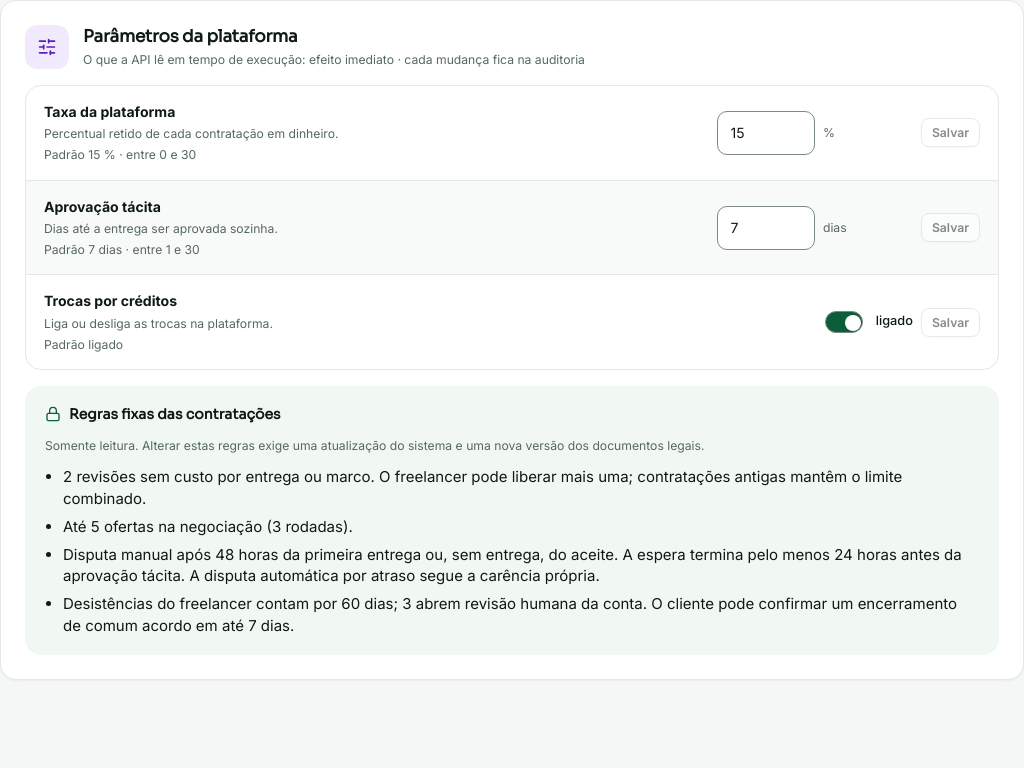
it: SettingsSection › Salvar só habilita com valor diferente do atual, e manda a chave com o número
Clear the number field named "Taxa da plataforma": (766, 133) 717,111 -> 815,155
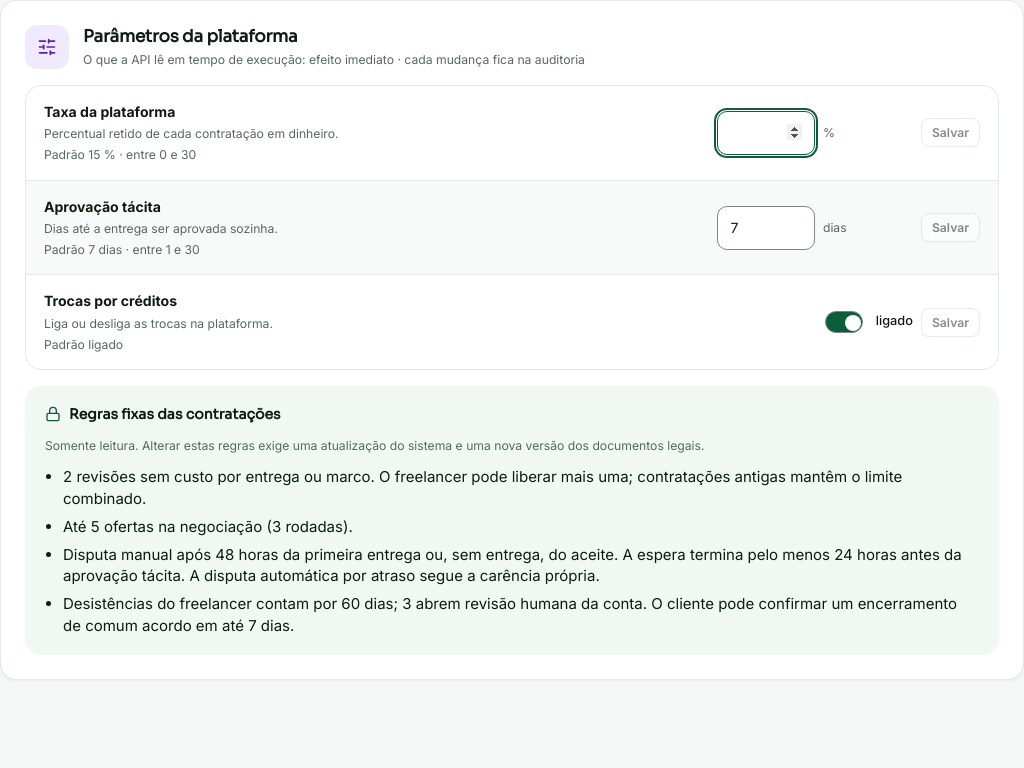
In the number field named "Taxa da plataforma": (766, 133) 717,111 -> 815,155, type "15"
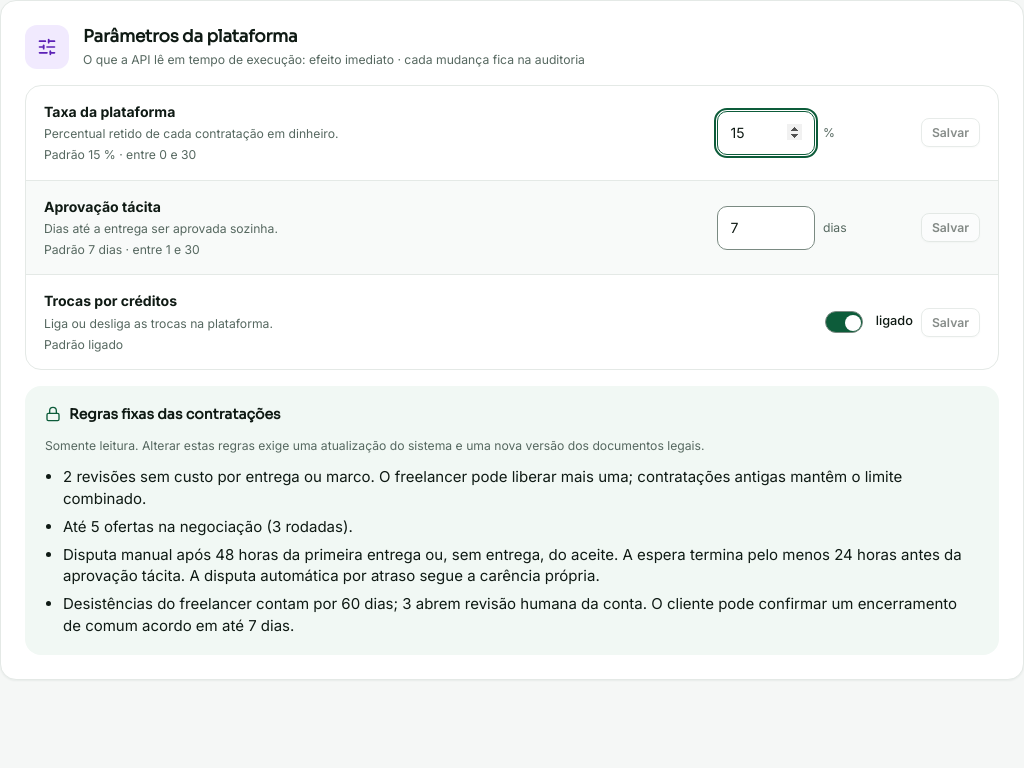
Replace the text in the number field named "Taxa da plataforma" with "12.5": (766, 133) 717,111 -> 815,155
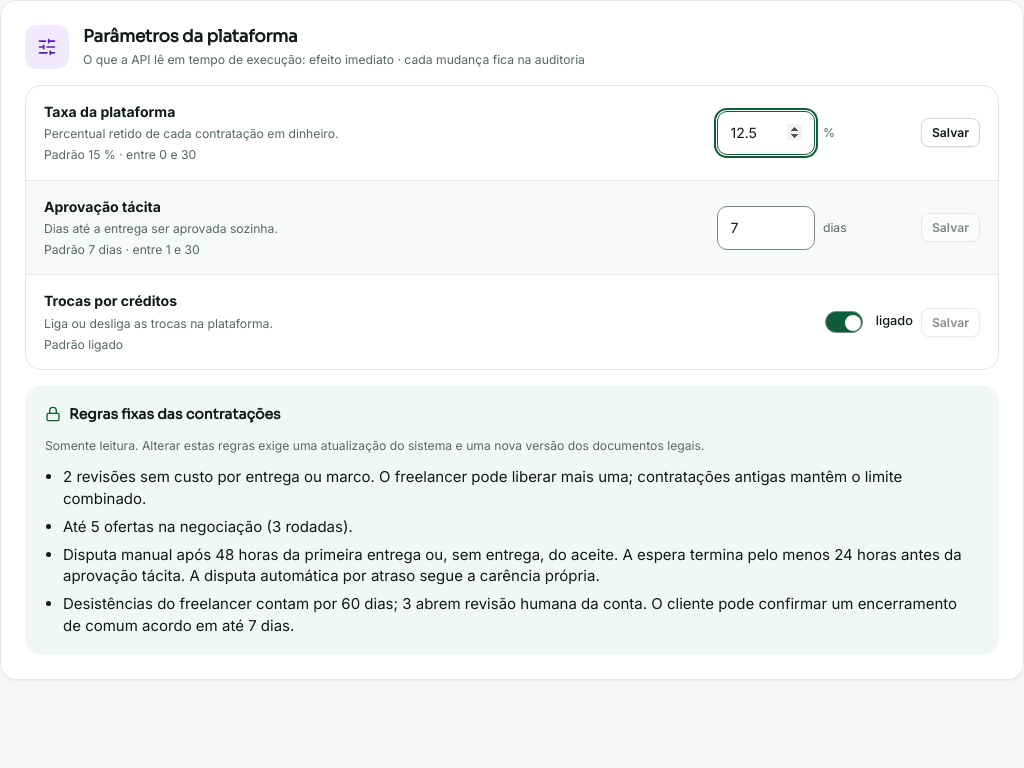
Click the 1st button "Salvar": click(950, 133) 921,118 -> 980,147
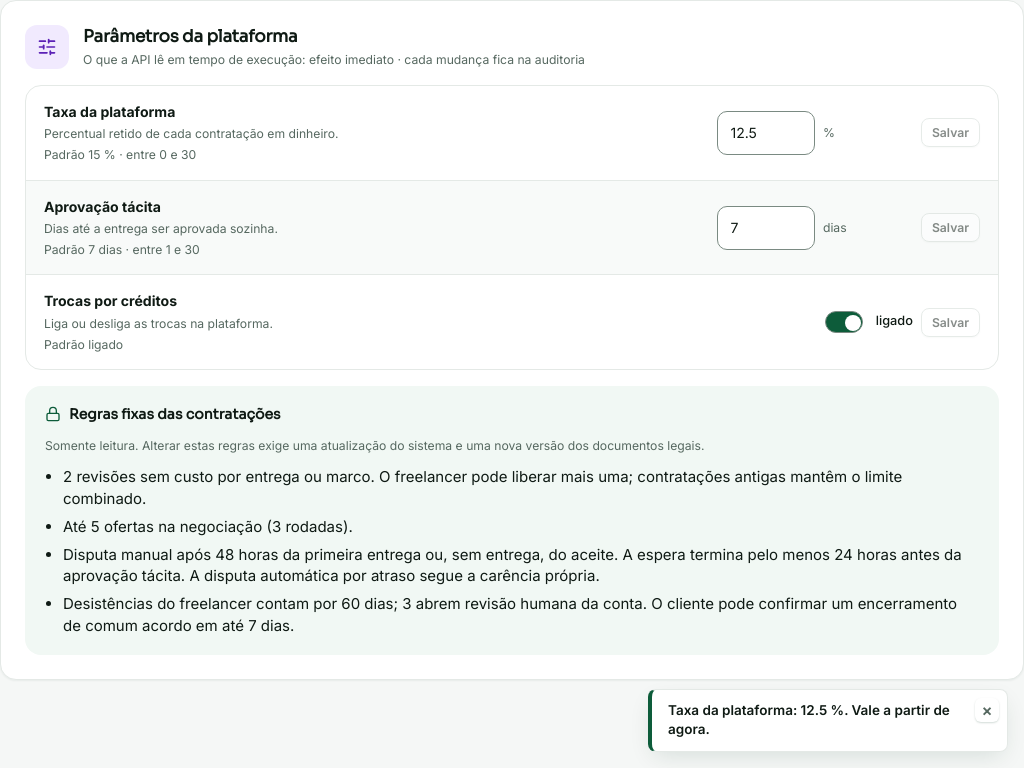
Result: the text "Taxa da plataforma: 12.5 %. Vale a partir de agora." is shown at 668,701 -> 967,740
